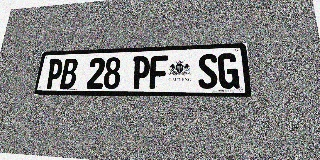2: (86, 57, 106, 89)
8: (103, 57, 122, 89)
B: (59, 58, 79, 89)
F: (149, 55, 168, 89)
G: (218, 53, 240, 89)
P: (131, 56, 150, 89), (45, 59, 64, 89)
S: (198, 54, 218, 89)
